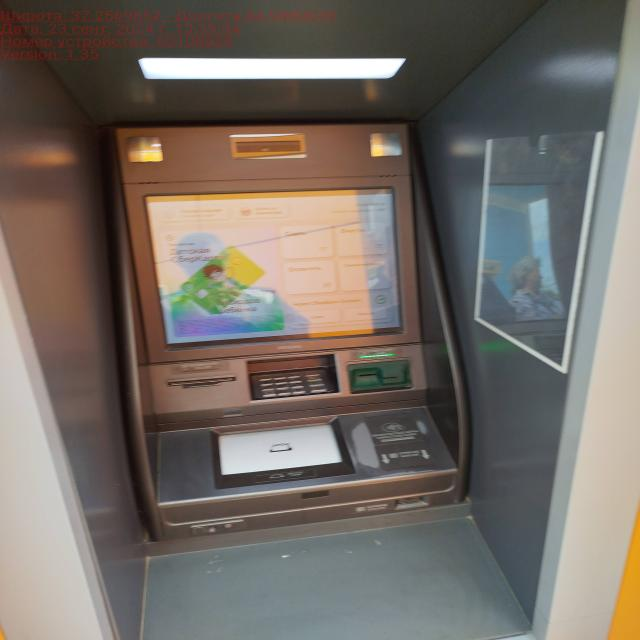bank: (100, 117, 543, 640)
